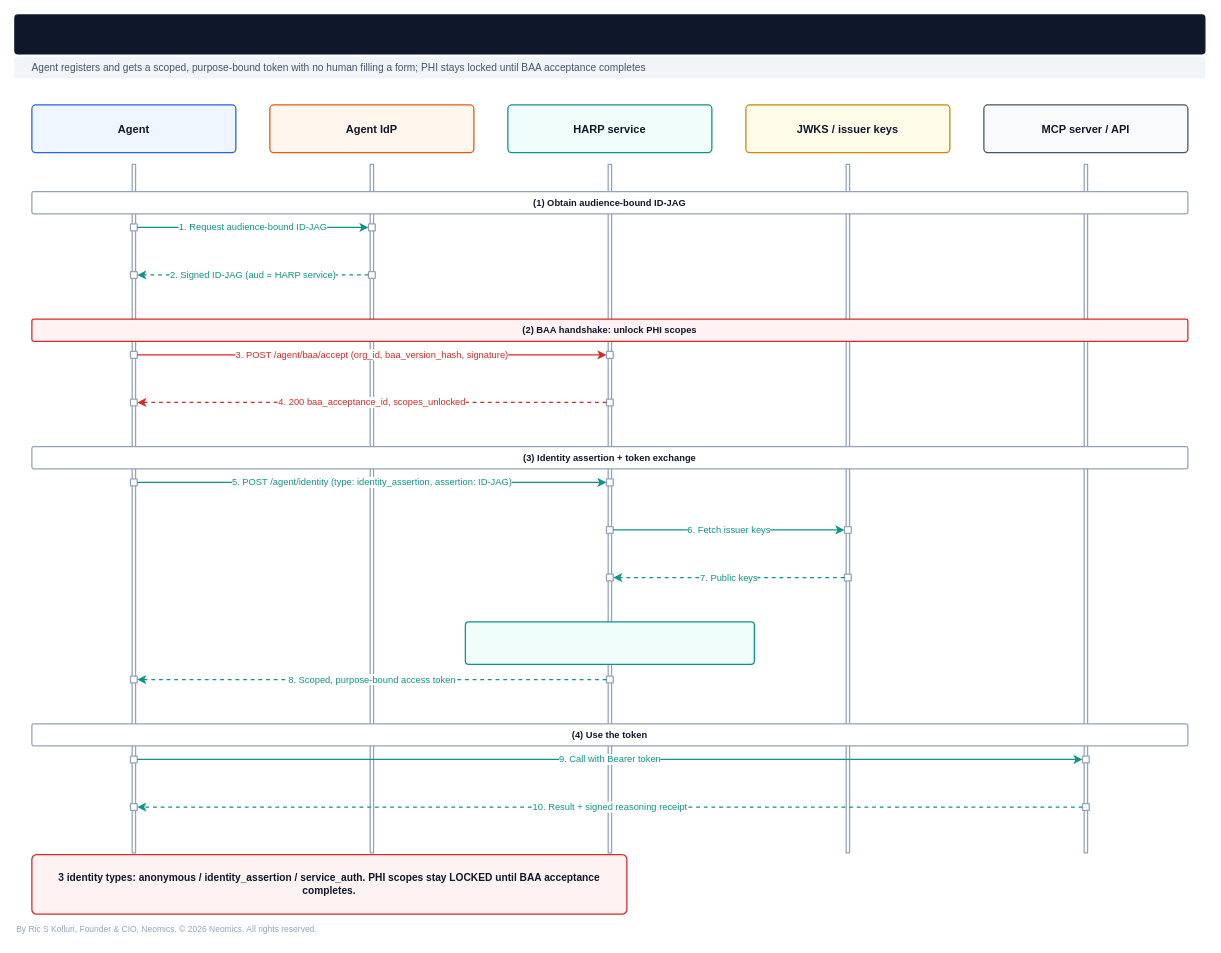
Some shapes in this 1221 by 953 pixel diagram are drawn without their labels. The shapes that lost their labels are listed below. From the top down, each one's centre as x and y in pixels, then its label:
point 609,34: HARP — Registration Flows
point 609,643: Verify claims (aud, exp, iat, jti, client_id) JWT-bearer exchange (RFC 7523)
